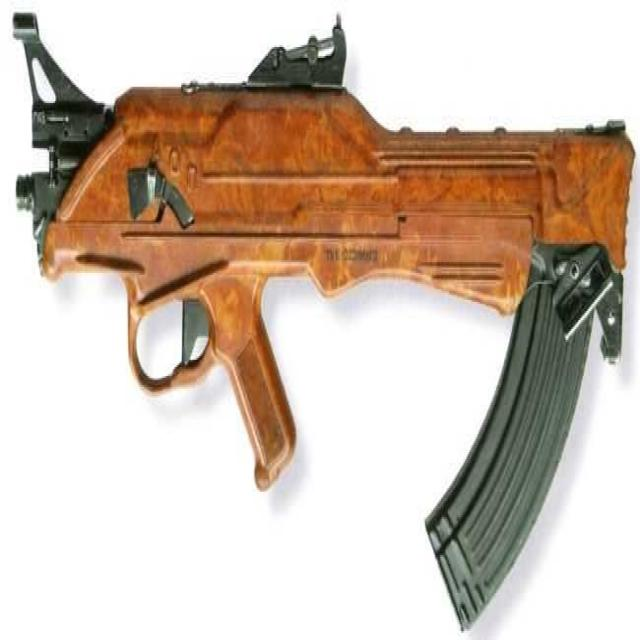heavyweapon: (12, 5, 637, 610)
